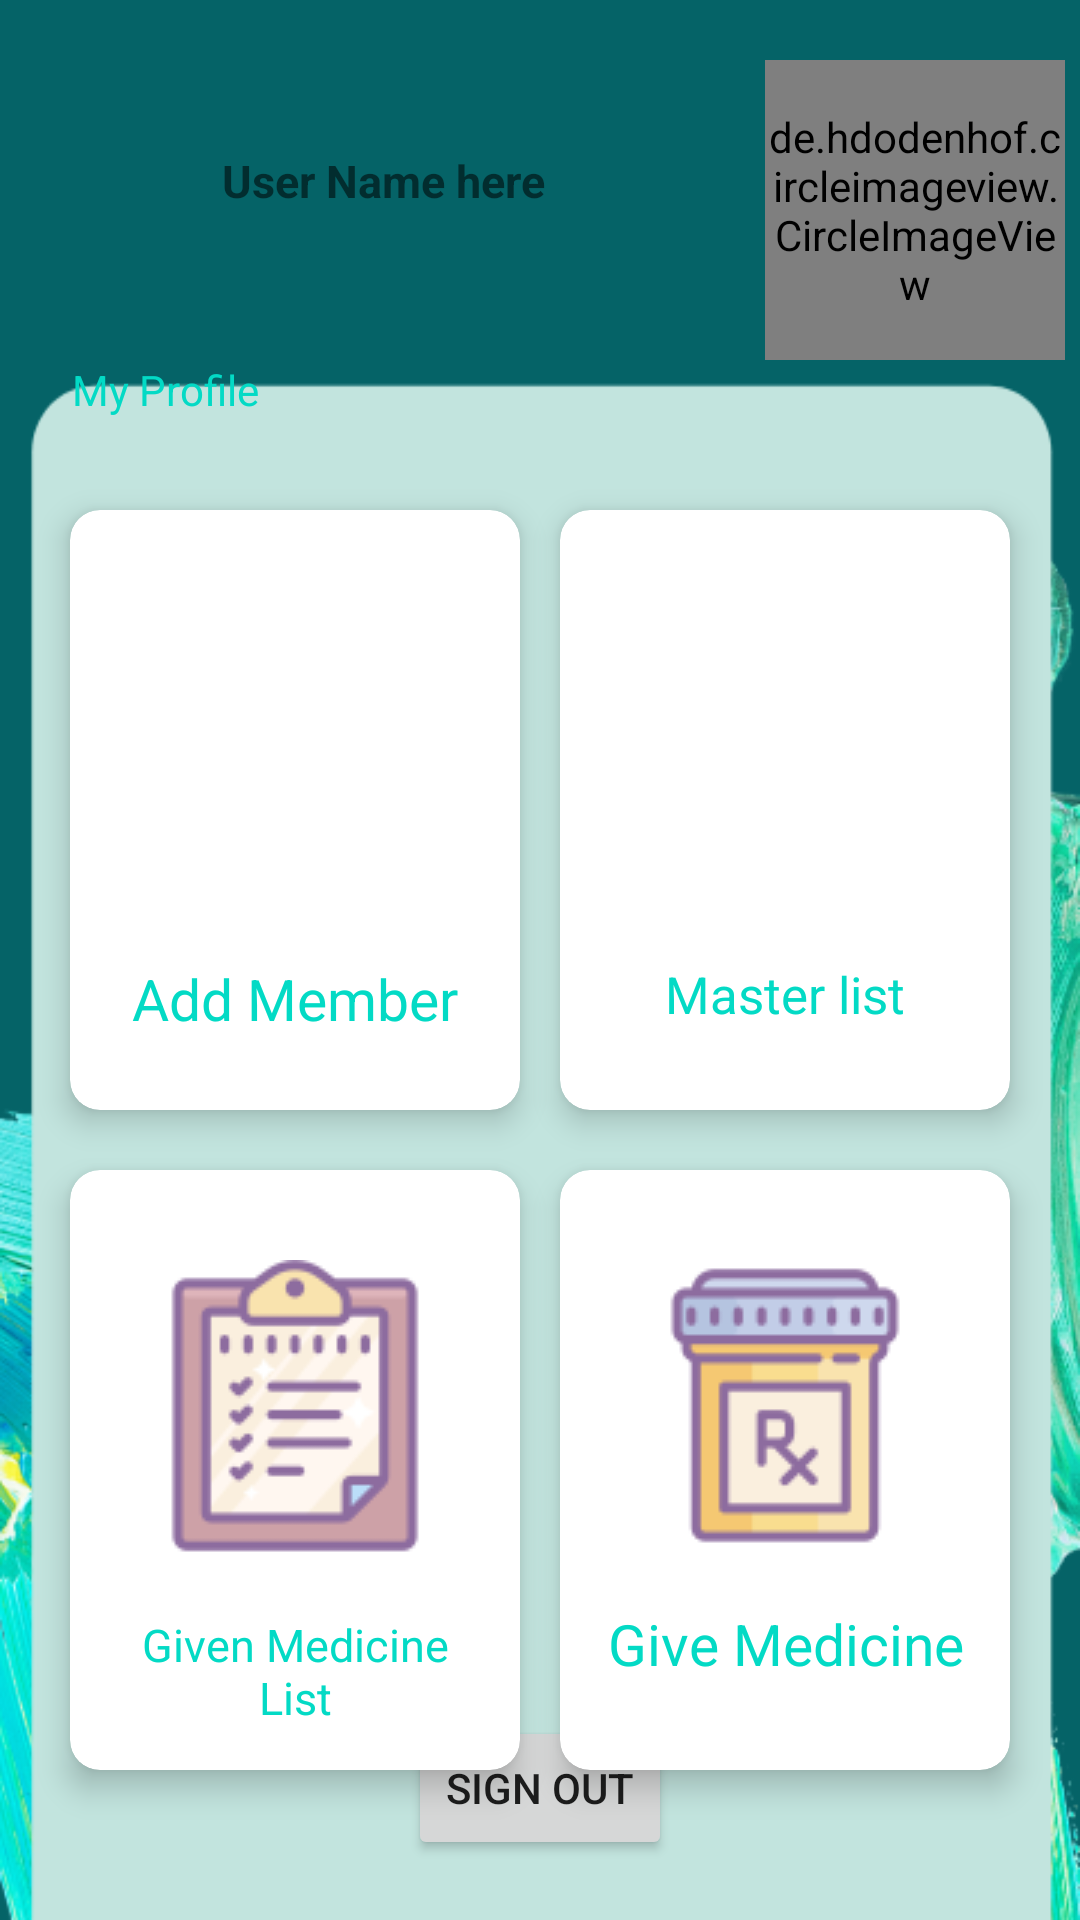

Icons on this 1080w x 1920h Android screen, each with the point to tap as point (x, y):
iconslist: point (295, 1406)
